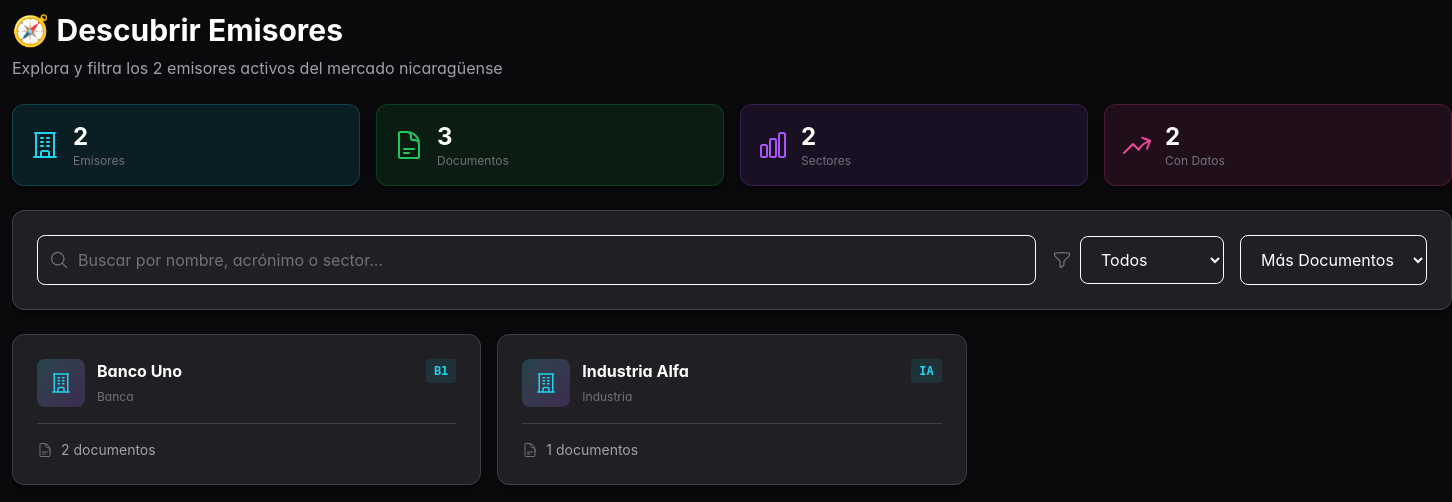
Discover Page › filters issuers by search term
The image size is (1452, 502).
Expected: the heading "Banco Uno" is shown, [97,359,182,383]
Type "Industria" into the field with placeholder "Buscar por nombre, acrónimo o sector..." at (536, 260), box [37,235,1036,285]
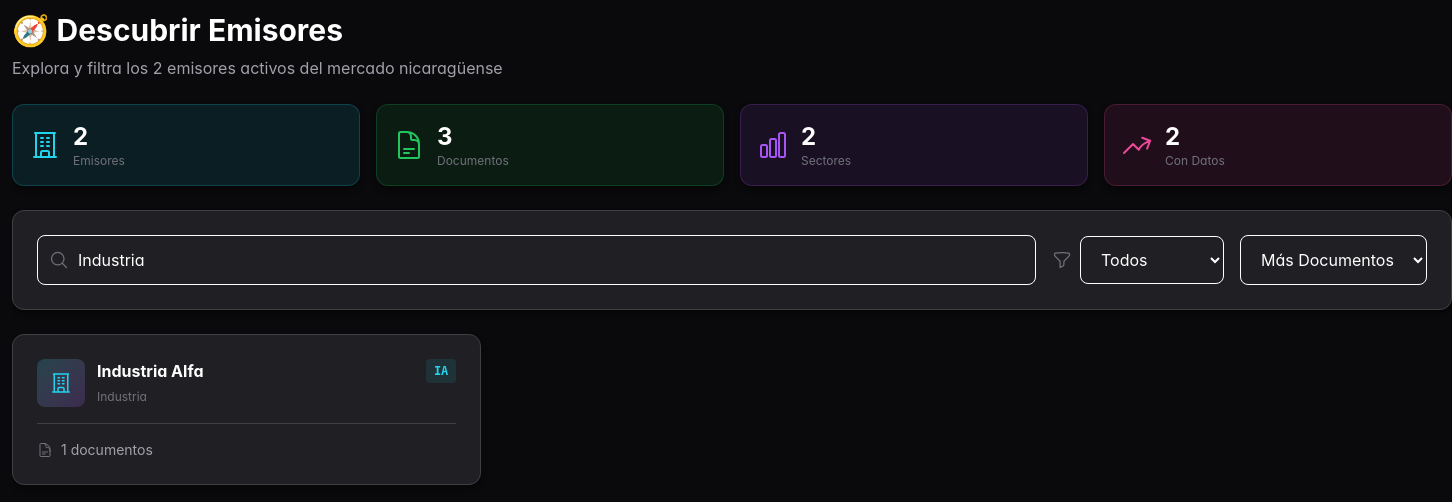
Expected: the heading "Industria Alfa" is shown, [97,359,204,383]
Expected: the link "Banco Uno" is gone
